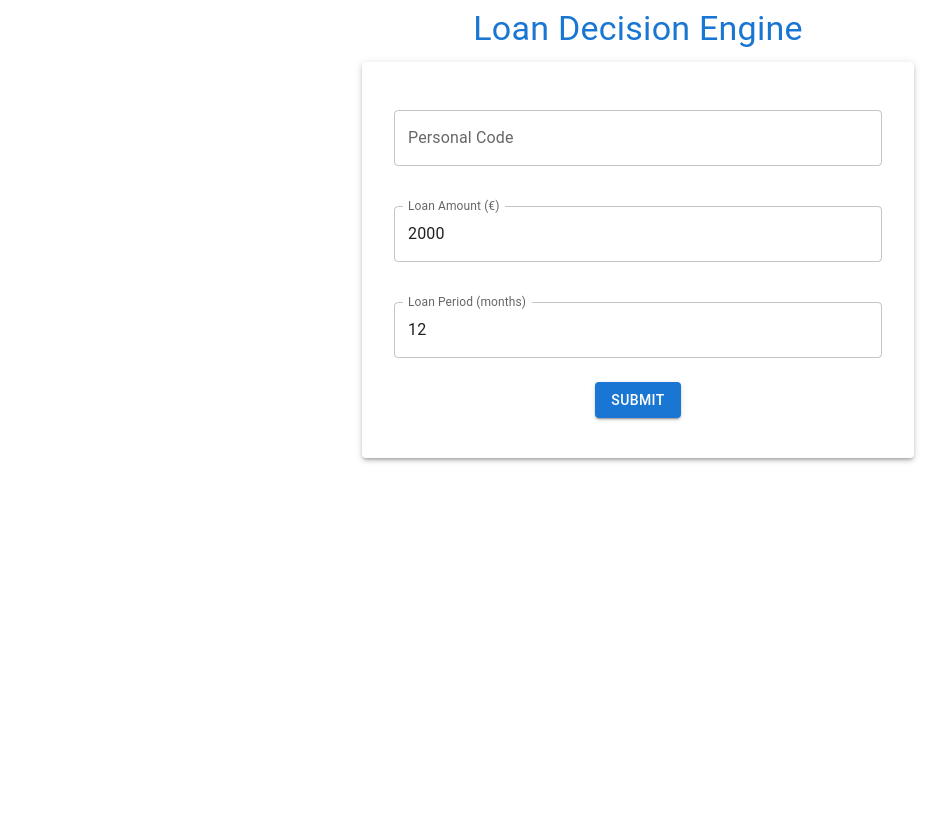
Test: App Component › renders the form and successfully submits
Type "49002010998" into the field labelled "Personal Code". click: (638, 138)
box: [394, 110, 882, 166]
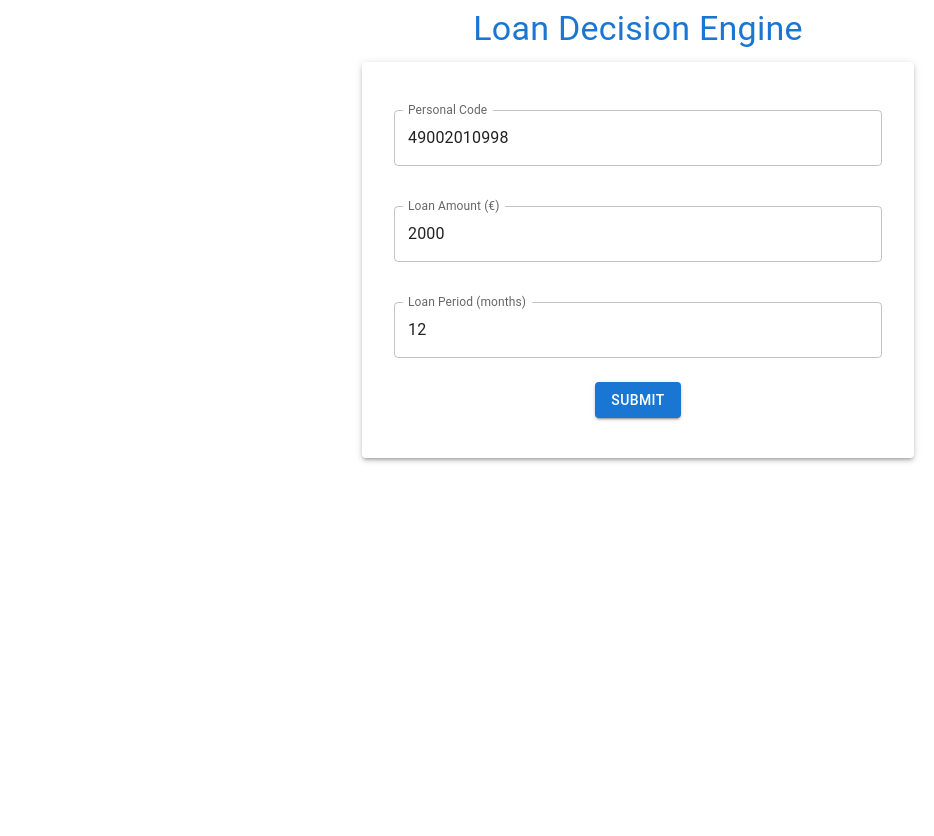
Replace the text in the number field labelled "Loan Amount (€)" with "5000". click: (638, 234)
box: [394, 206, 882, 262]
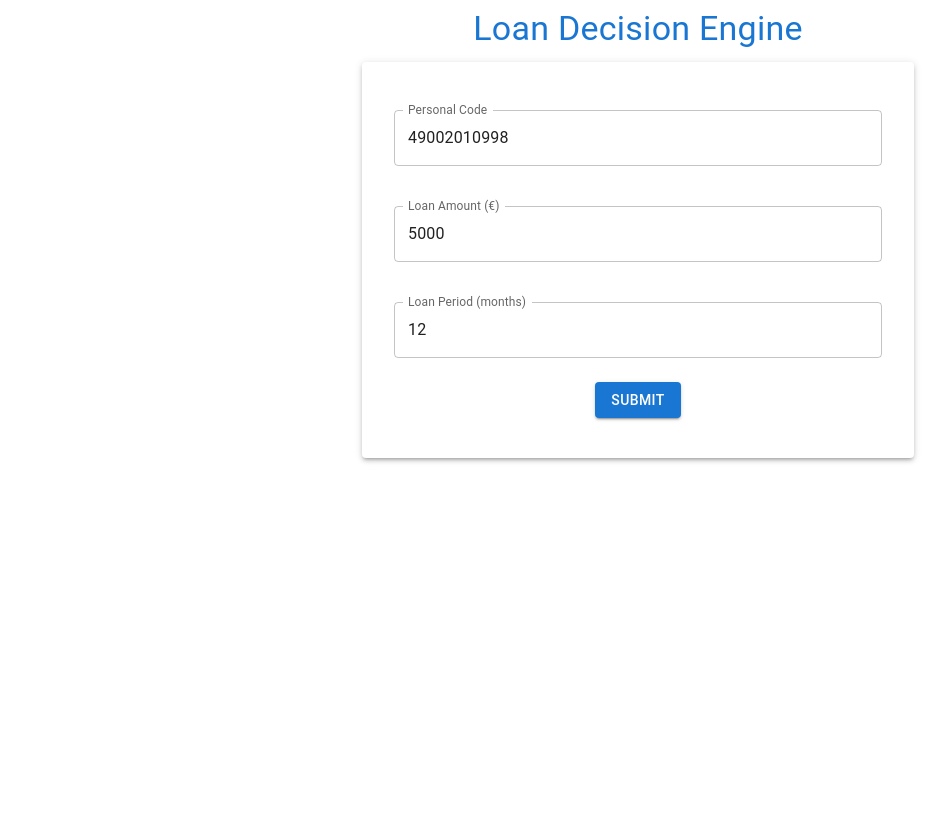
Replace the text in the number field labelled "Loan Period (months)" with "24". click: (638, 330)
box: [394, 302, 882, 358]
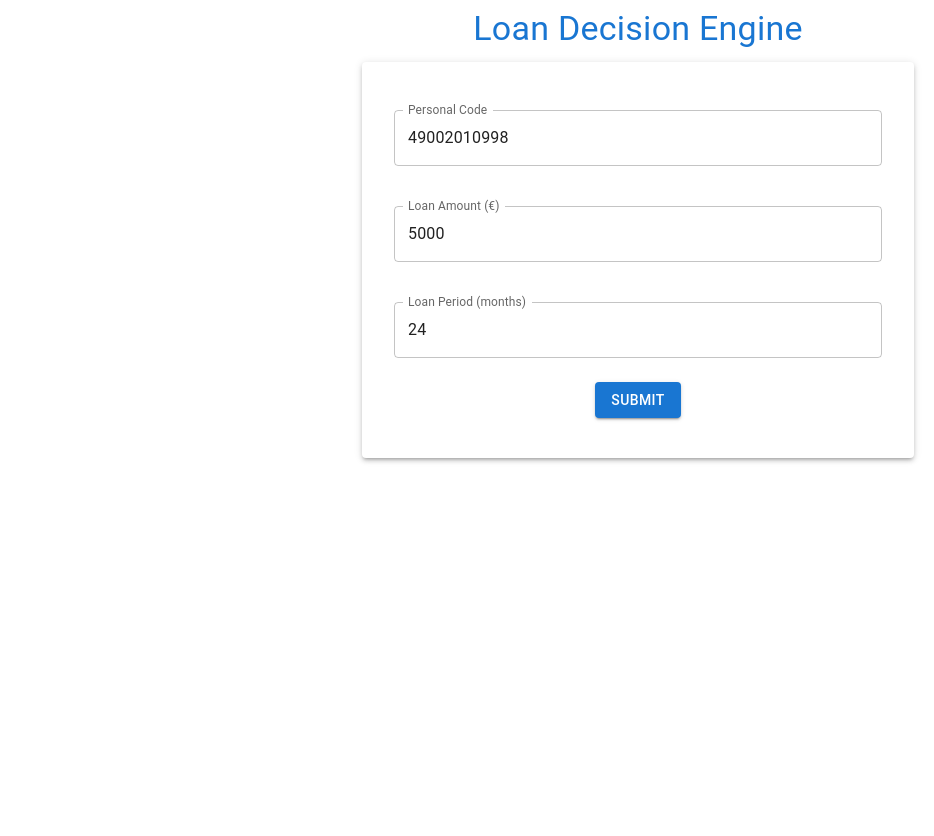
Click the button "Submit". click: (638, 400)
box: [595, 382, 681, 418]
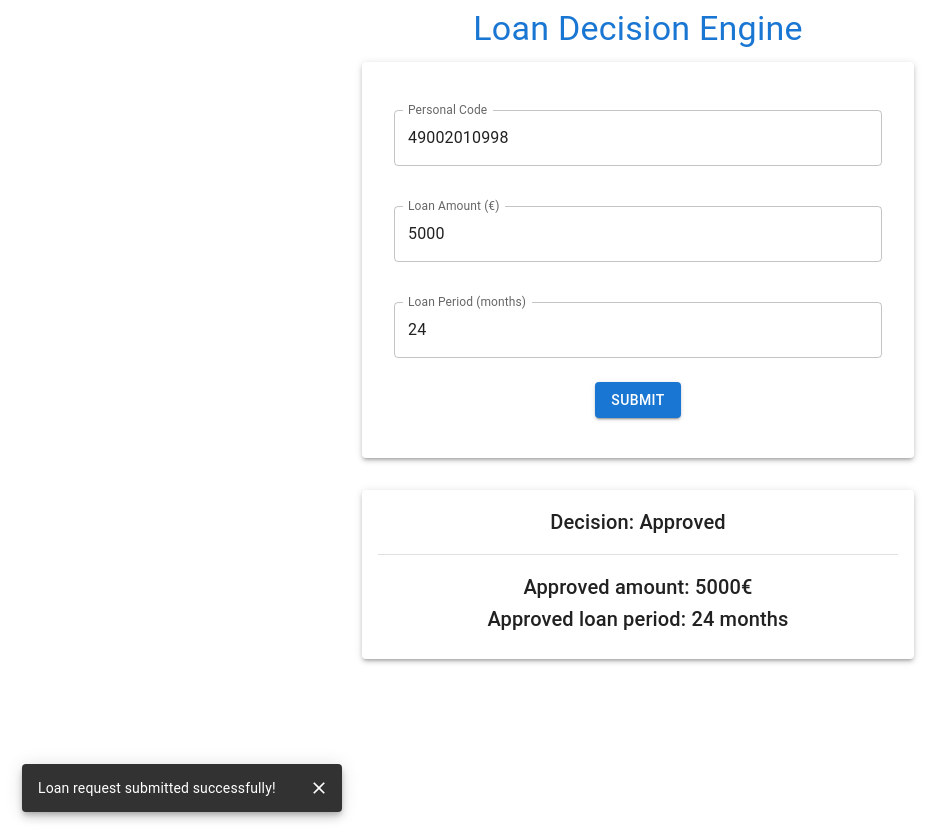
Expected: the heading "Decision: Approved" is shown, [550, 510, 726, 534]
Expected: the heading "Approved amount: 5000€" is shown, [524, 575, 752, 599]
Expected: the heading "Approved loan period: 24 months" is shown, [488, 607, 788, 631]
